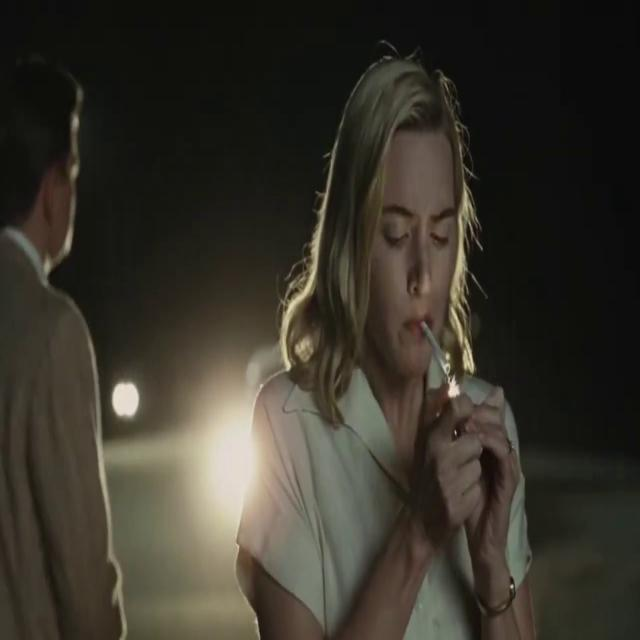Smooking: (420, 314, 451, 388)
